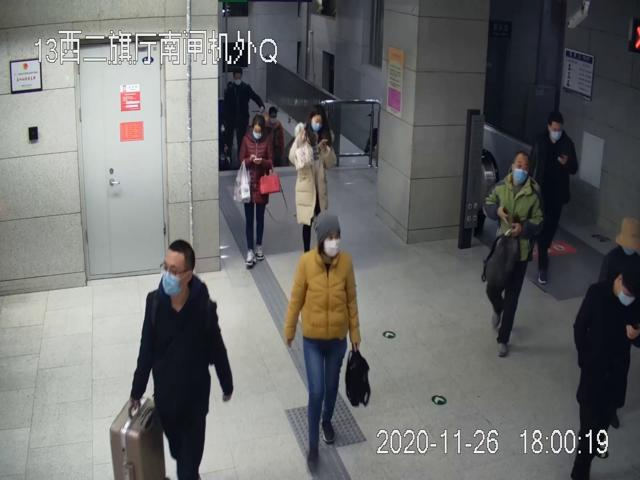person: (130, 240, 233, 480), (283, 209, 369, 470), (571, 268, 640, 480), (483, 150, 545, 356), (530, 109, 578, 283), (235, 115, 282, 270), (287, 111, 336, 249)
